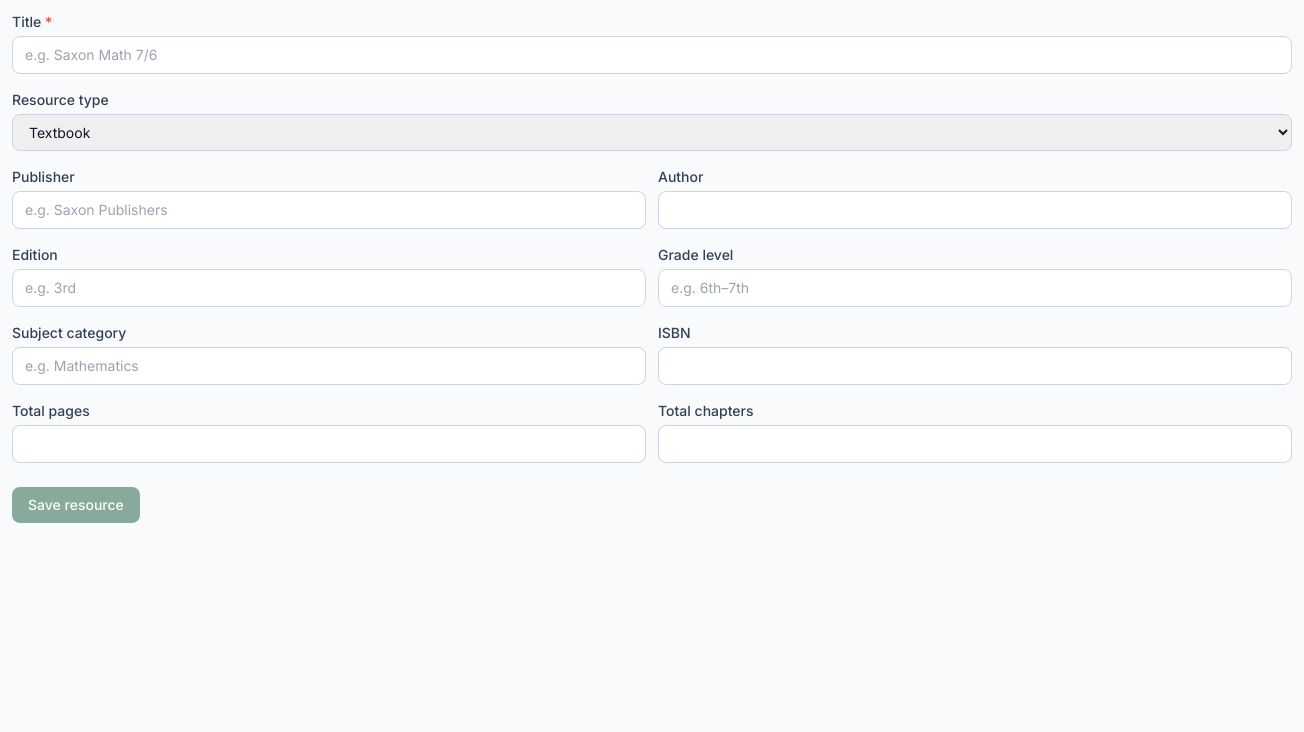
Test: ResourceForm › shows lesson generation hint after total pages are entered
The width and height of the screenshot is (1304, 732).
Type "360" into the number field with test id "resource-total-pages-input" at (329, 444), box [12,425,646,463]
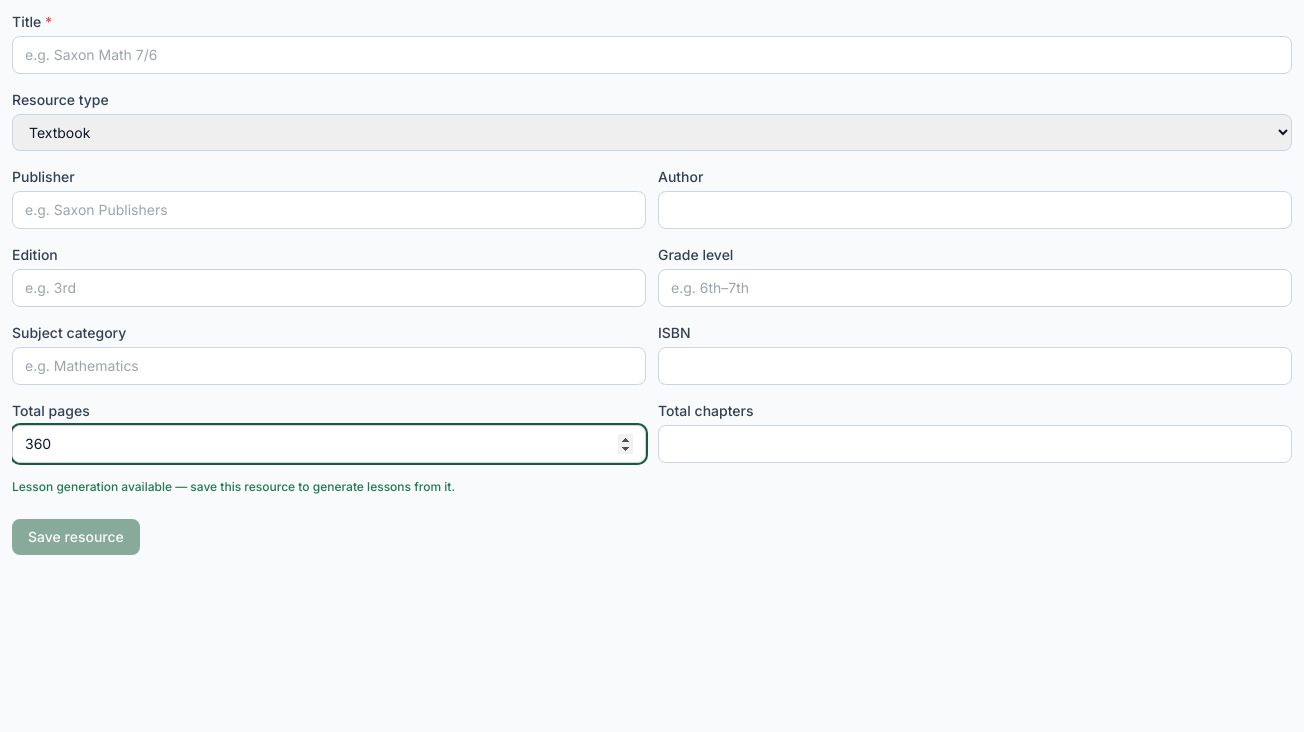
Check: the text with test id "lesson-generation-hint" is shown, box [12,479,455,494]
